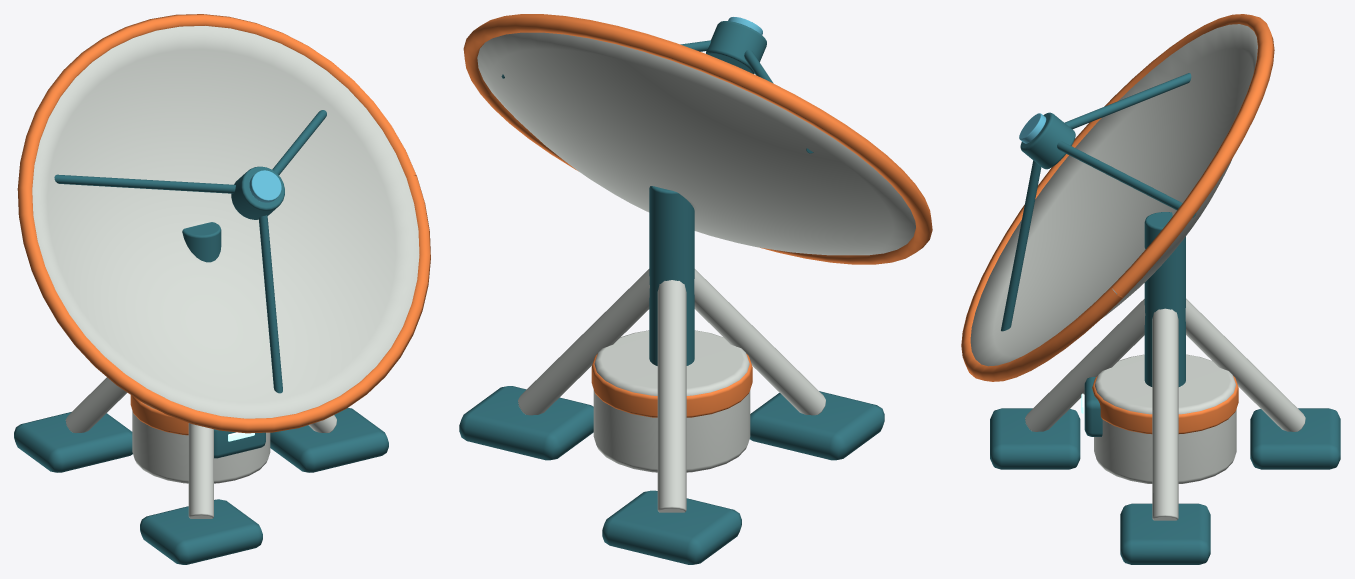
File: Radio_Dish_Fixed.glb
3 views of the same model, side by side, from view 1: azimuth 30°, elevation 25°; view 2: azimuth 150°, elevation 25°; view 3: azimuth 270°, elevation 25° (orthographic). The views are drawn at different scales.
Parts seen in each view (by area): view 1: Parabolic reflector • separate, Dish orange rim, Wide stabilizer foot.002, Wide stabilizer foot.001, Wide stabilizer foot, Radio equipment pod, Tripod support.002, Feed support.001, Feed support.002, Tripod support.001, Receiver feed, Mast (+4 smaller); view 2: Parabolic reflector • separate, Radio equipment pod, Dish orange rim, Tripod support.001, Wide stabilizer foot.001, Wide stabilizer foot, Wide stabilizer foot.002, Mast, Tripod support.002, Tripod support, Orange service band, Receiver feed; view 3: Parabolic reflector • separate, Dish orange rim, Radio equipment pod, Tripod support, Wide stabilizer foot, Wide stabilizer foot.002, Wide stabilizer foot.001, Tripod support.001, Tripod support.002, Mast, Orange service band, Feed support.002 (+5 smaller).
Boxes of the visible parts, left/top/right/bottom form: Parabolic reflector • separate: left=32, top=26, right=419, bottom=418; Dish orange rim: left=17, top=14, right=430, bottom=433; Wide stabilizer foot.002: left=140, top=499, right=262, bottom=564; Wide stabilizer foot.001: left=14, top=412, right=132, bottom=472; Wide stabilizer foot: left=270, top=408, right=388, bottom=472; Radio equipment pod: left=132, top=403, right=270, bottom=483; Tripod support.002: left=188, top=423, right=213, bottom=518; Feed support.001: left=54, top=174, right=235, bottom=193; Feed support.002: left=258, top=215, right=282, bottom=393; Tripod support.001: left=65, top=377, right=127, bottom=432; Receiver feed: left=231, top=166, right=284, bottom=219; Mast: left=182, top=222, right=221, bottom=262; Parabolic reflector • separate: left=477, top=32, right=915, bottom=255; Radio equipment pod: left=593, top=330, right=750, bottom=472; Dish orange rim: left=463, top=14, right=932, bottom=264; Tripod support.001: left=657, top=280, right=686, bottom=512; Wide stabilizer foot.001: left=602, top=490, right=741, bottom=564; Wide stabilizer foot: left=459, top=386, right=593, bottom=460; Wide stabilizer foot.002: left=750, top=391, right=884, bottom=460; Mast: left=649, top=186, right=694, bottom=365; Tripod support.002: left=694, top=269, right=825, bottom=415; Tripod support: left=518, top=269, right=649, bottom=415; Orange service band: left=591, top=353, right=752, bottom=417; Receiver feed: left=706, top=21, right=766, bottom=73; Parabolic reflector • separate: left=970, top=24, right=1257, bottom=366; Dish orange rim: left=961, top=14, right=1274, bottom=381; Radio equipment pod: left=1094, top=354, right=1236, bottom=483; Tripod support: left=1152, top=308, right=1178, bottom=520; Wide stabilizer foot: left=1120, top=503, right=1210, bottom=564; Wide stabilizer foot.002: left=990, top=408, right=1080, bottom=469; Wide stabilizer foot.001: left=1250, top=408, right=1340, bottom=469; Tripod support.001: left=1185, top=298, right=1305, bottom=431; Tripod support.002: left=1025, top=299, right=1145, bottom=431; Mast: left=1144, top=212, right=1185, bottom=386; Orange service band: left=1092, top=376, right=1238, bottom=434; Feed support.002: left=1001, top=160, right=1041, bottom=331.
Bounding box in the file's own units: 2.45 × 2.6 × 2.02.
